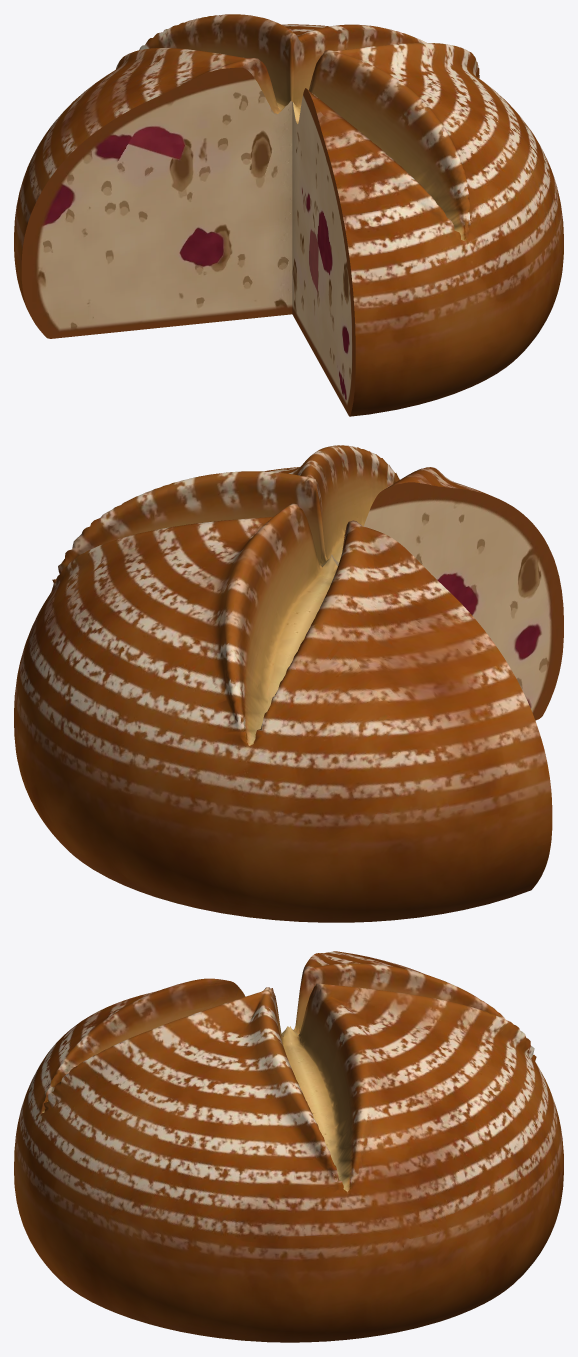
File: campagne--cranberry-fresh.glb
3 views of the same model, one above another, from view 1: azimuth 30°, elevation 25°; view 2: azimuth 150°, elevation 25°; view 3: azimuth 270°, elevation 25° (orthographic). The views are drawn at different scales.
Visible parts, largest first — view 1: campagne_cranberry-fresh; view 2: campagne_cranberry-fresh; view 3: campagne_cranberry-fresh.
Boxes of the visible parts, x1,y1,x2,y2 form: campagne_cranberry-fresh: [14, 14, 563, 416]; campagne_cranberry-fresh: [14, 445, 563, 922]; campagne_cranberry-fresh: [14, 951, 563, 1342].
Size of the model in its own units: 0.9785 by 0.5303 by 0.9991.
Materials: 1 (1 with a texture image).
